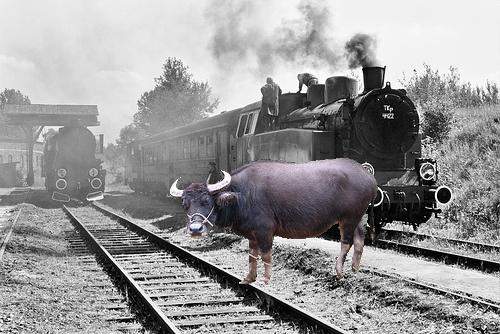tampered: (171, 159, 378, 284)
